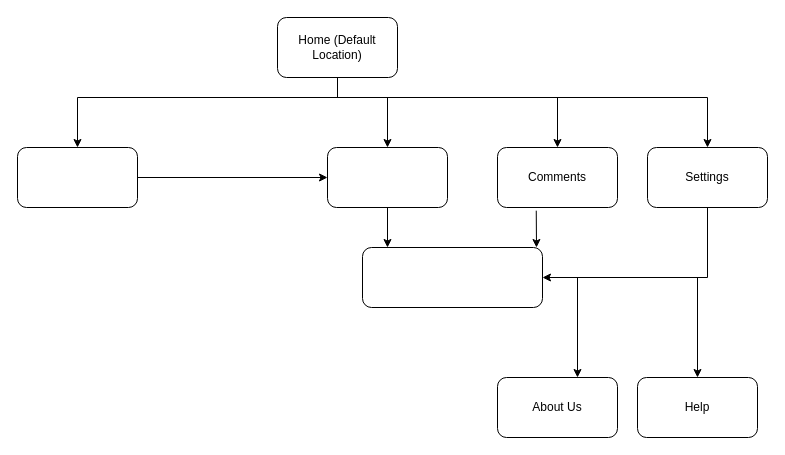
Some shapes in this 785 by 455 pixel diagram are drawn without their labels. Each missing label, with the centre of its shape:
"Login/Register/Account" belongs at point (452, 277).
"Search" belongs at point (77, 177).
"Stories (Pictures)" belongs at point (387, 177).
